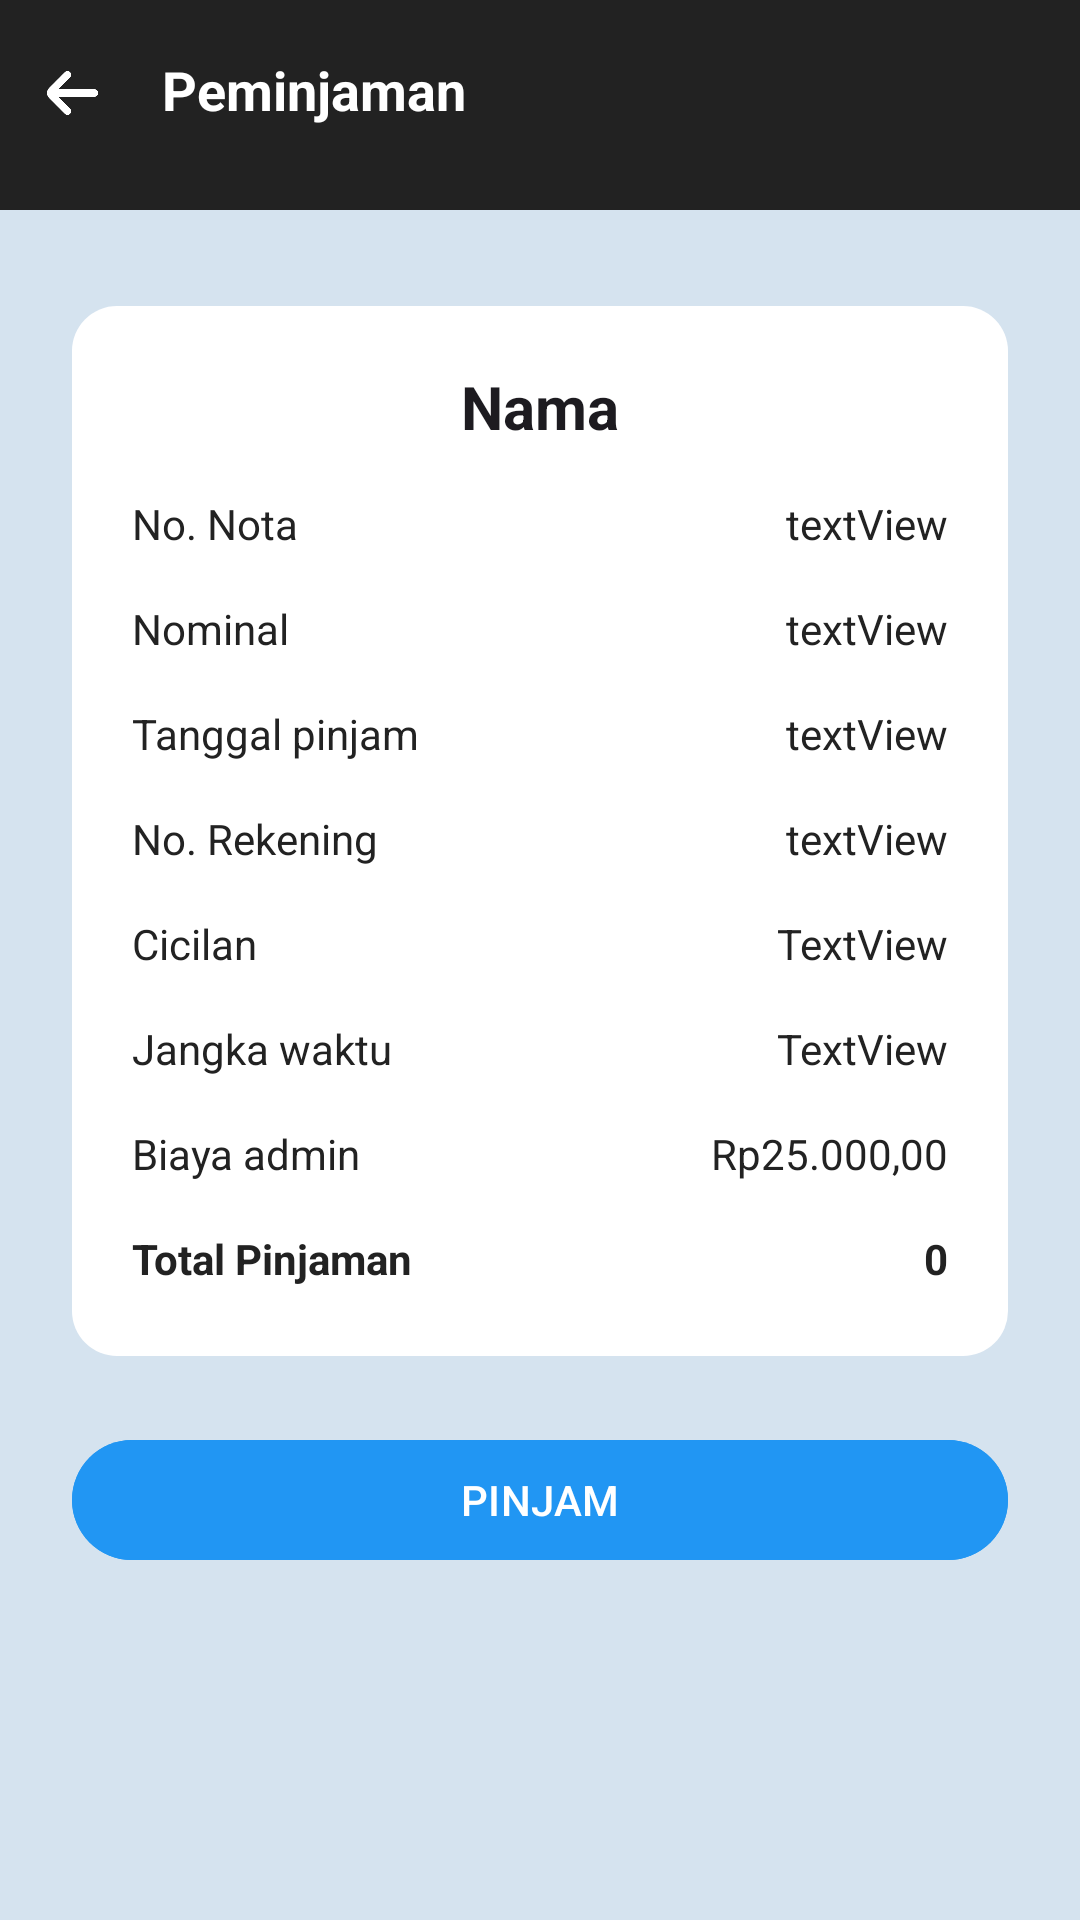

Icon click points for this 1080*1920 phone screenshot, format [x,y]:
arrow: [72,93]
